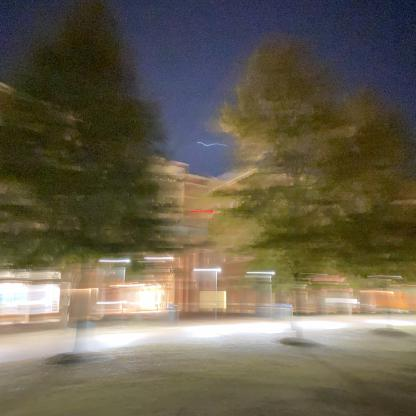eb2: (2, 71, 415, 322)
